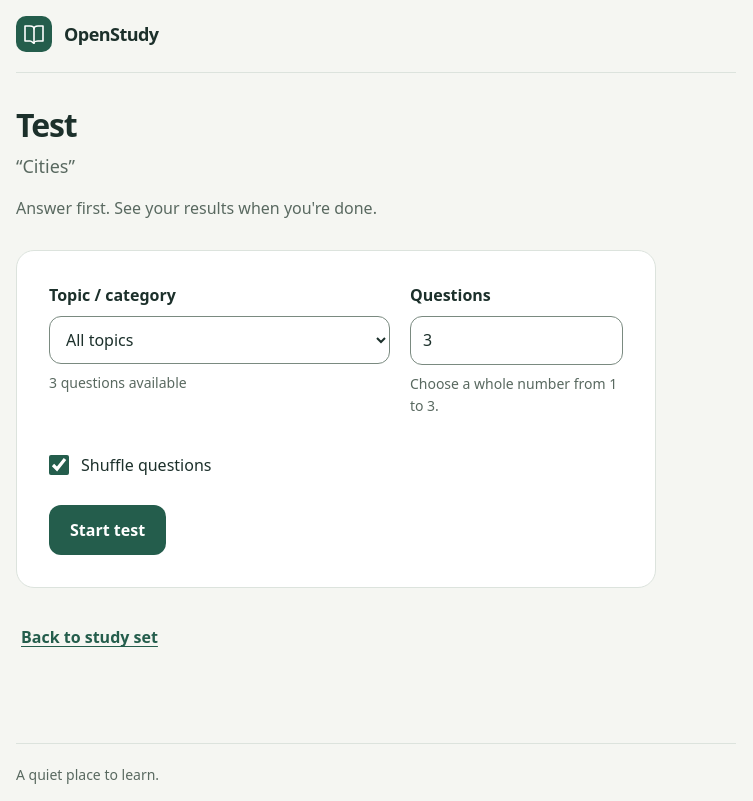
Test mode › filters category IDs, clamps excess counts, preserves valid counts and handles empty topics
Select "Europe" in the dropdown labelled "Topic / category" at {"x": 219, "y": 340}, box x1=49 y1=316 x2=390 y2=364
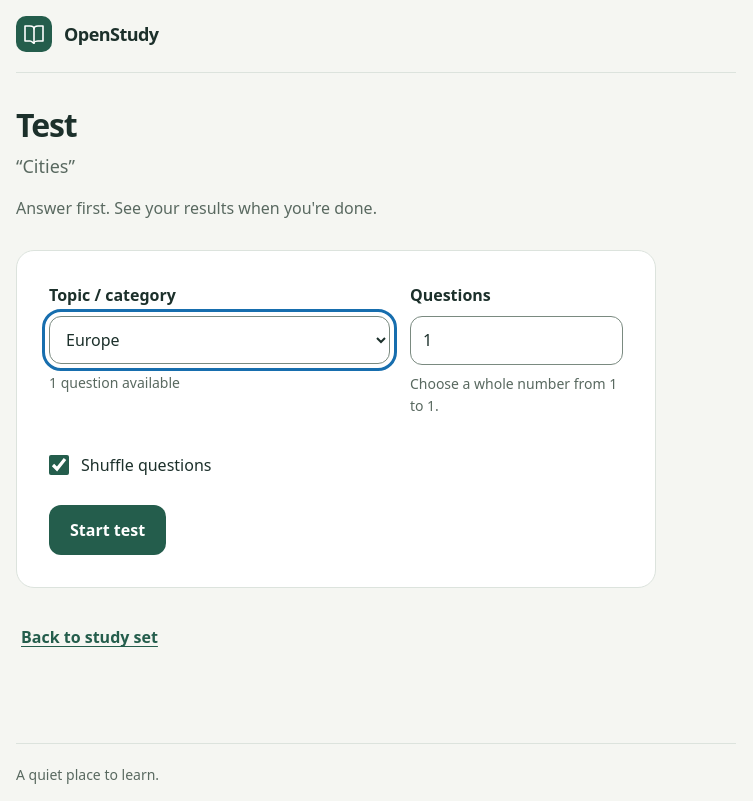
Expected: the number field labelled "Questions" holds "1", x1=410 y1=316 x2=623 y2=365
Expected: the text "1 question available" is shown, x1=49 y1=373 x2=180 y2=392
Select "All topics" in the dropdown labelled "Topic / category" at {"x": 219, "y": 340}, box x1=49 y1=316 x2=390 y2=364
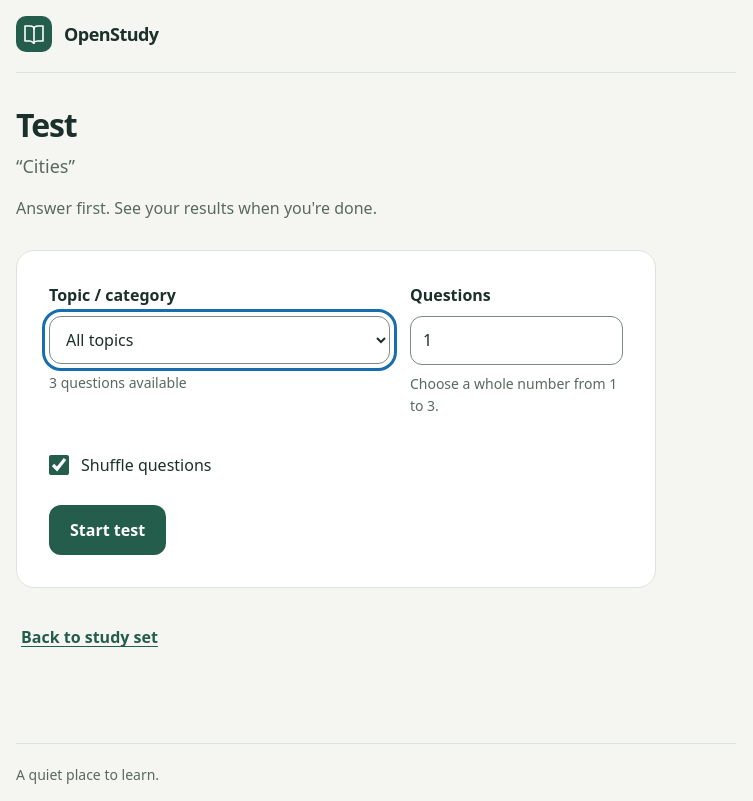
Expected: the number field labelled "Questions" holds "1", x1=410 y1=316 x2=623 y2=365
Select "Empty" in the dropdown labelled "Topic / category" at {"x": 219, "y": 340}, box x1=49 y1=316 x2=390 y2=364
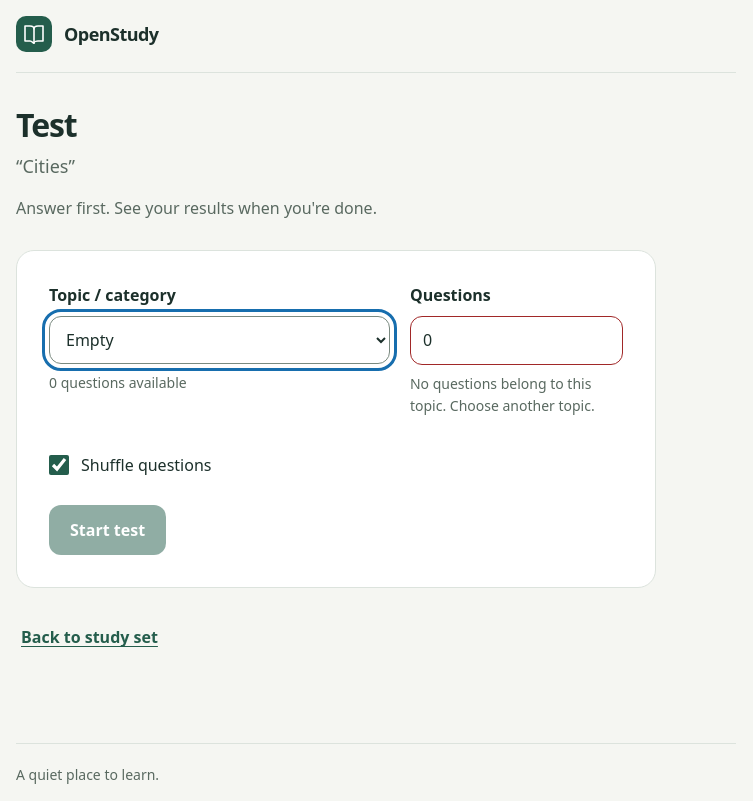
Expected: the button "Start test" is disabled, x1=49 y1=505 x2=166 y2=555
Expected: the text "No questions belong to this topic. Choose another topic." is shown, x1=410 y1=373 x2=623 y2=417
Select "Europe" in the dropdown labelled "Topic / category" at {"x": 219, "y": 340}, box x1=49 y1=316 x2=390 y2=364
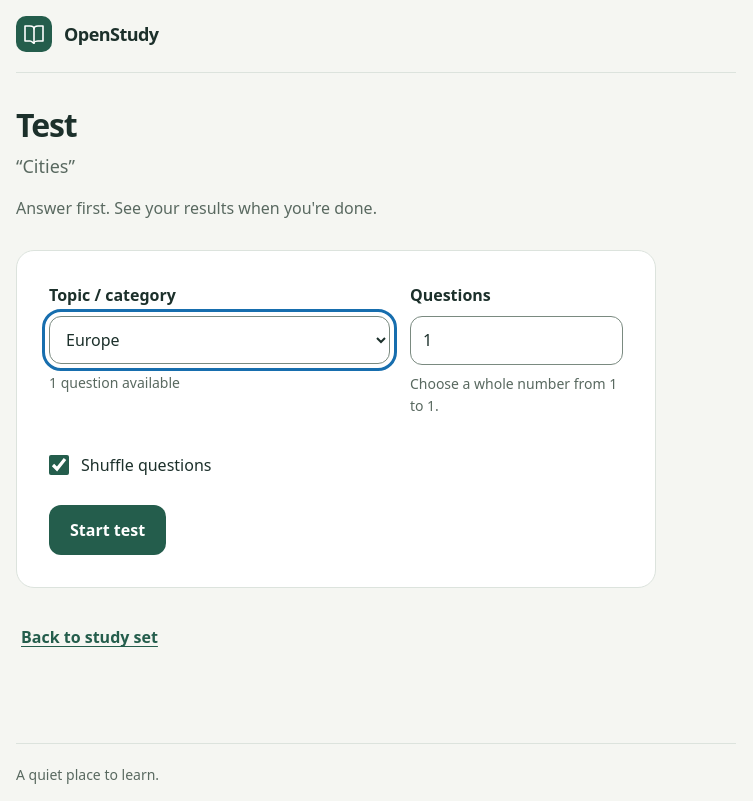
Click the button "Start test".
click(108, 530)  # box x1=49 y1=505 x2=166 y2=555
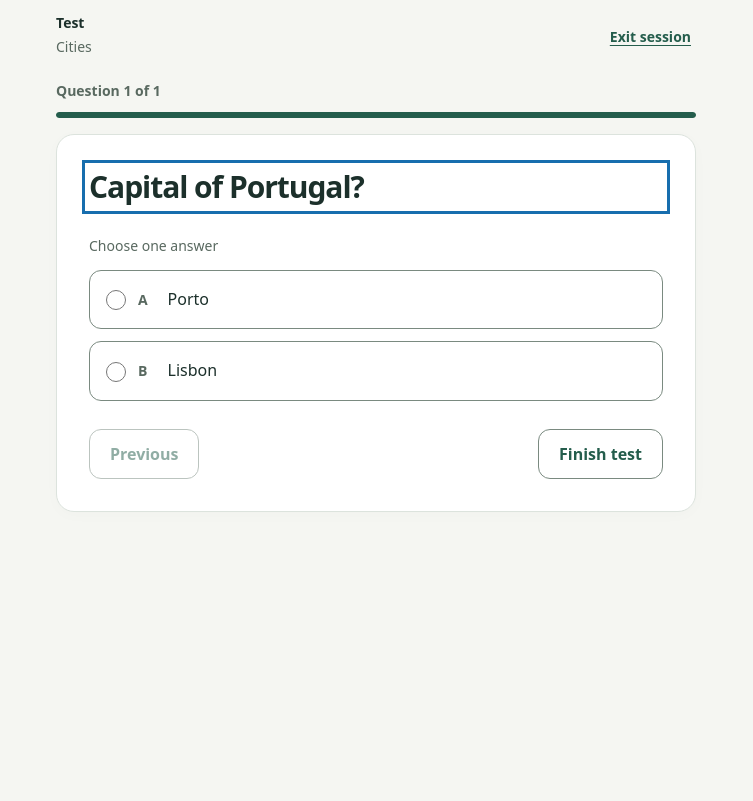
Expected: the text "Question 1 of 1" is shown, x1=56 y1=81 x2=161 y2=100
Expected: the heading "Capital of Portugal?" is shown, x1=89 y1=166 x2=364 y2=207
